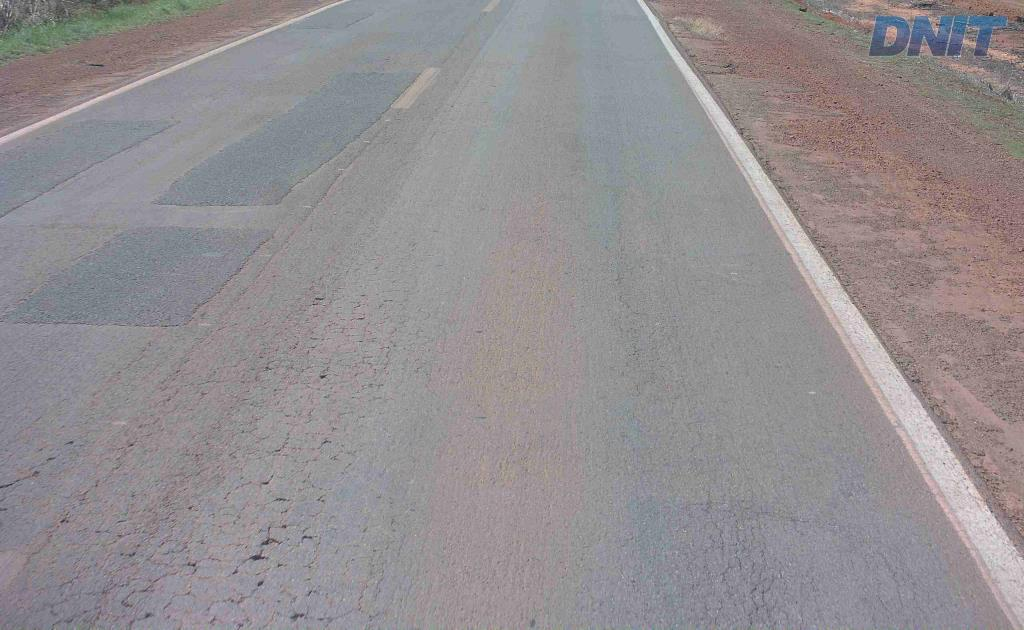crack: (84, 551, 167, 604), (116, 486, 178, 546)
